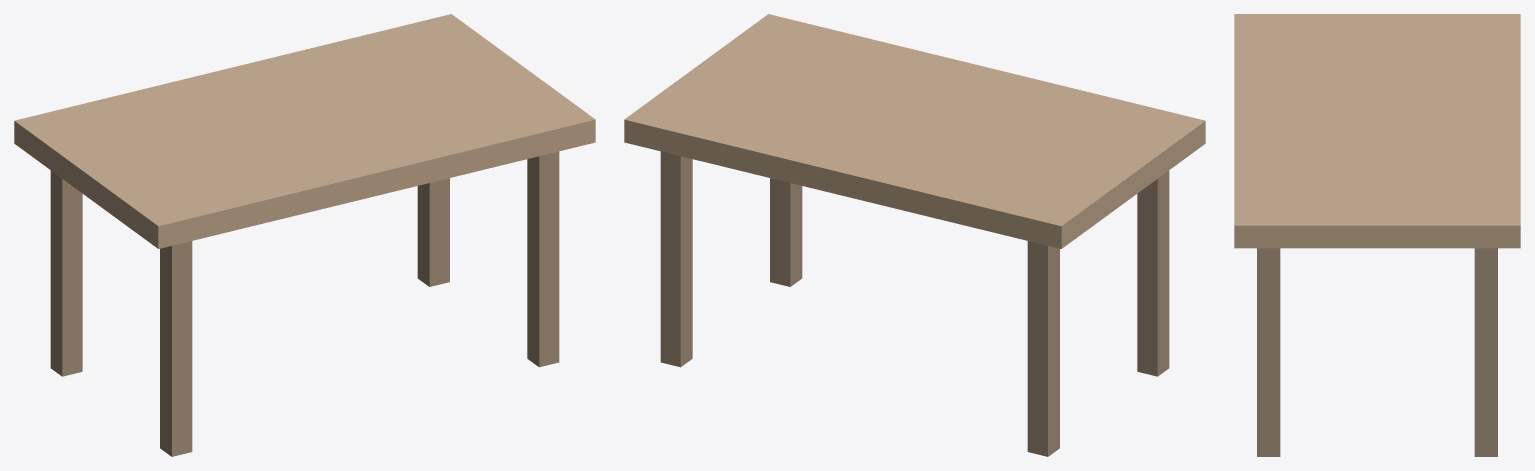
File: table-rect.glb
The picture shows the model from 3 angles, left to right: view 1: azimuth 30°, elevation 25°; view 2: azimuth 150°, elevation 25°; view 3: azimuth 270°, elevation 25°; orthographic projection.
Visible parts, largest first — view 1: top_0, leg_2, leg_4, leg_1, leg_3; view 2: top_0, leg_1, leg_3, leg_2, leg_4; view 3: top_0, leg_4, leg_3.
Boxes of the visible parts, left/top/right/bottom form: top_0: left=14, top=14, right=595, bottom=248; leg_2: left=160, top=241, right=192, bottom=456; leg_4: left=527, top=151, right=559, bottom=367; leg_1: left=50, top=170, right=82, bottom=376; leg_3: left=417, top=178, right=449, bottom=286; top_0: left=624, top=14, right=1205, bottom=248; leg_1: left=1027, top=241, right=1059, bottom=456; leg_3: left=660, top=151, right=692, bottom=367; leg_2: left=1137, top=170, right=1169, bottom=376; leg_4: left=770, top=178, right=802, bottom=286; top_0: left=1234, top=14, right=1520, bottom=248; leg_4: left=1257, top=248, right=1280, bottom=456; leg_3: left=1474, top=248, right=1497, bottom=456.
Bounding box in the file's own units: 1.4 × 0.75 × 0.8.
